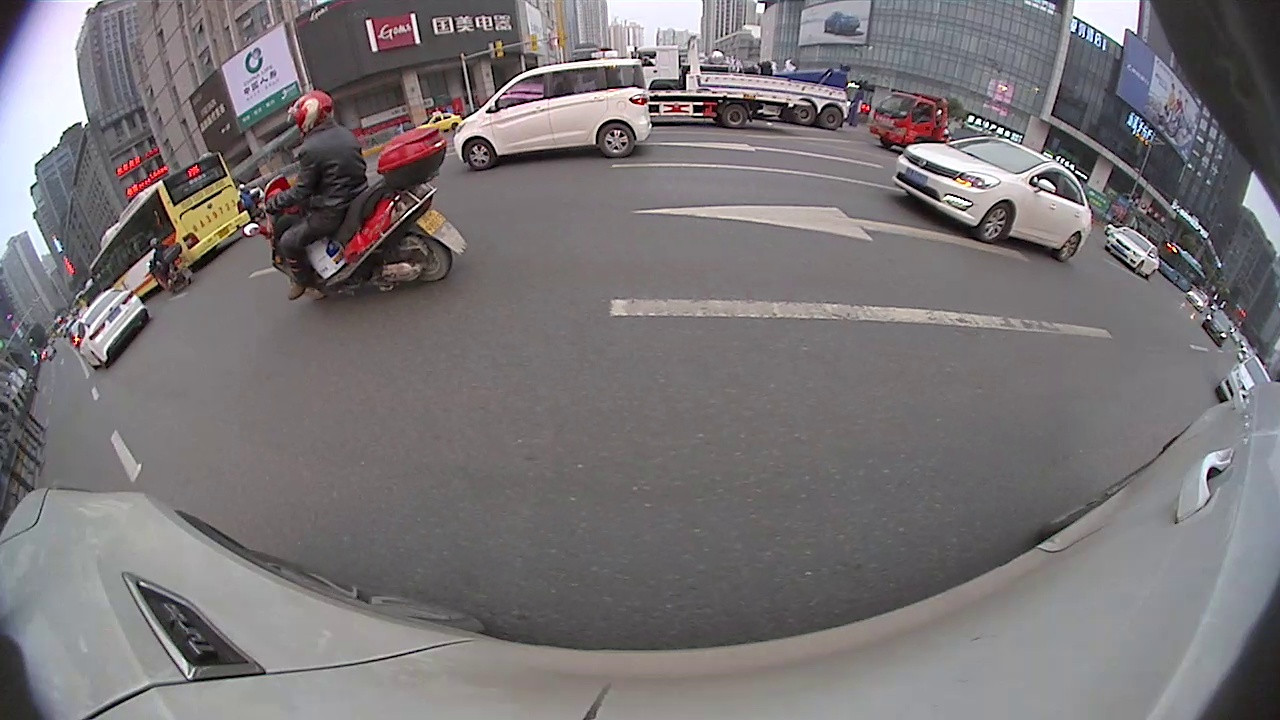bus: (87, 147, 252, 296)
car: (892, 138, 1097, 264), (451, 58, 652, 177), (68, 289, 151, 373), (1219, 352, 1274, 413), (1106, 227, 1163, 283)
front: (976, 201, 1012, 246), (464, 138, 498, 173)
rear: (405, 230, 455, 286), (596, 119, 638, 161), (1055, 232, 1081, 263), (723, 102, 749, 130), (818, 104, 844, 132)
rider: (261, 89, 460, 307), (144, 236, 197, 298)
truck: (630, 36, 858, 138), (872, 84, 1001, 156)
